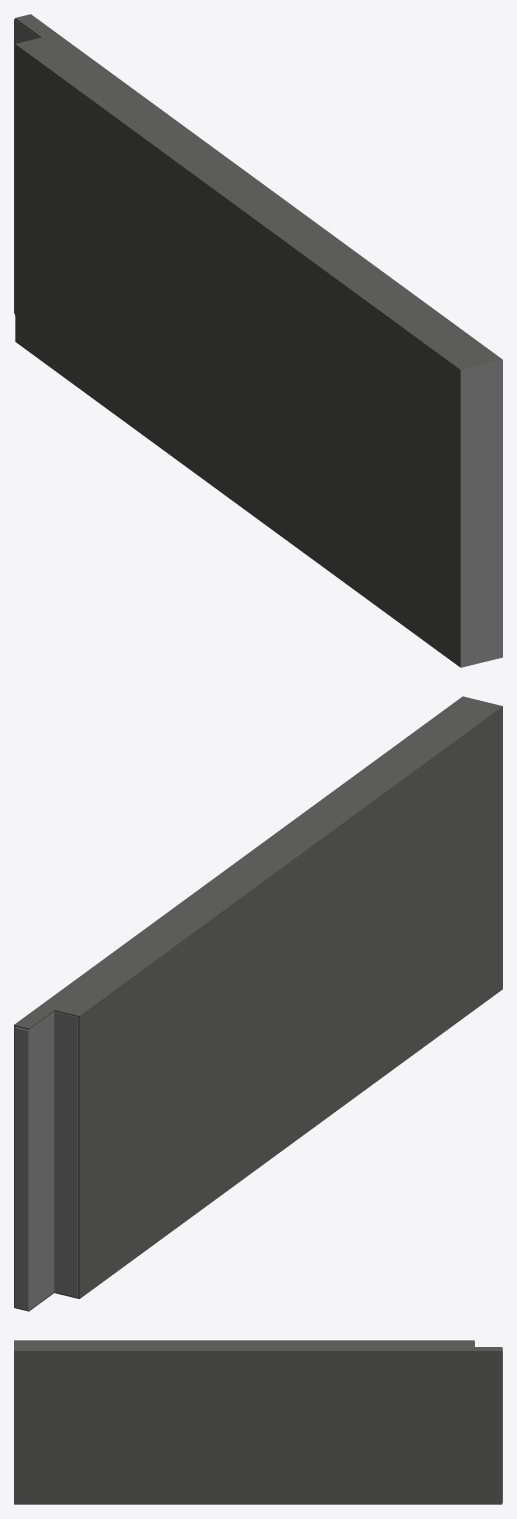
Rendered from mv-boxcap-300-m.glb.
3 renders of one model, top to bottom at view 1: azimuth 30°, elevation 25°; view 2: azimuth 150°, elevation 25°; view 3: azimuth 270°, elevation 25°, orthographic. The views are drawn at different scales.
Visible parts, largest first — view 1: geometry_0; view 2: geometry_0; view 3: geometry_0.
Part boxes in pixels (x1,y1,x2,y2): geometry_0: (14, 14, 502, 667); geometry_0: (14, 696, 502, 1311); geometry_0: (14, 1340, 502, 1504).
Bounding box in the file's own units: 0.015 × 0.101 × 0.2907.
Materials: 1 (1 with a texture image).
